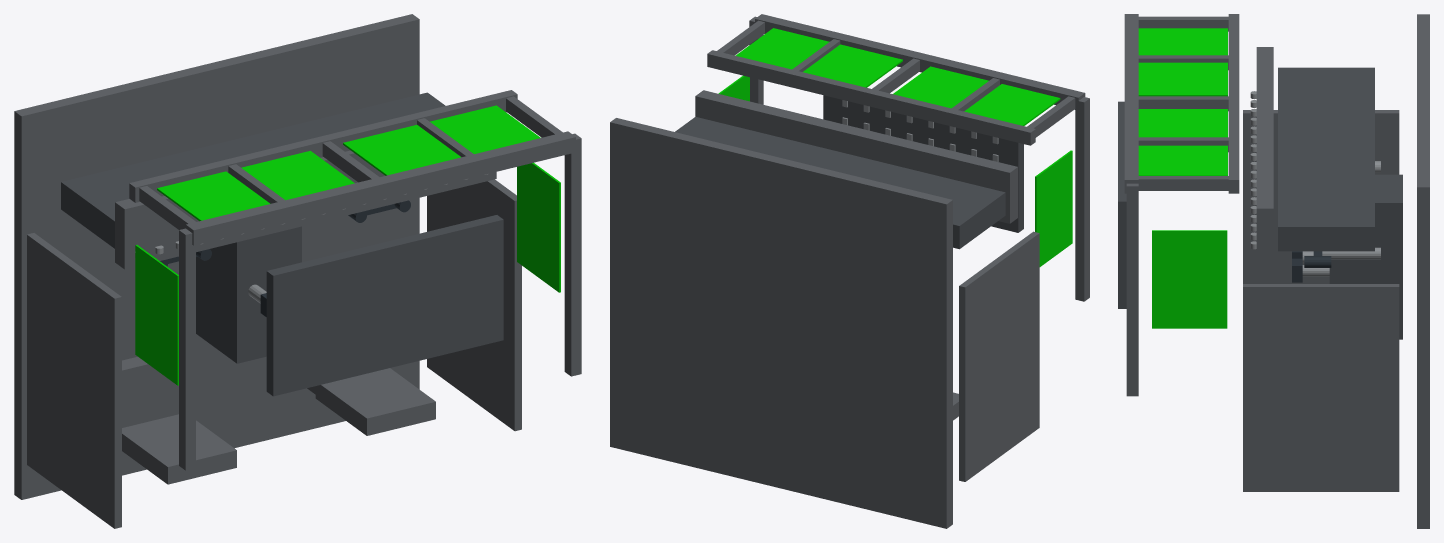
Rendered from cockpit3d.glb.
3 renders of one model, left to right at view 1: azimuth 30°, elevation 25°; view 2: azimuth 150°, elevation 25°; view 3: azimuth 270°, elevation 25°, orthographic. The views are drawn at different scales.
Visible parts, largest first — view 1: floor, overhead_panel, side_wall, side_wall_1, front_panel, window_upper_frame, center_pedestal, glareshield, seat_back_1, side_window_green, window_lower_frame, side_window_green_1 (+12 smaller); view 2: floor, side_wall, glareshield, front_panel, window_lower_frame, overhead_panel, window_upper_frame, side_window_green, side_frame, windshield_green_2, windshield_green, windshield_green_1 (+5 smaller); view 3: side_wall_1, front_panel, side_window_green_1, floor, side_wall, center_pedestal, glareshield, windshield_green_1, windshield_green_3, side_frame_1, windshield_green_2, window_upper_frame (+9 smaller).
Boxes of the visible parts, x1,y1,x2,y2 form: floor: (14,14,419,499); overhead_panel: (266,215,503,396); side_wall: (27,233,121,528); side_wall_1: (427,179,521,431); front_panel: (61,92,445,248); window_upper_frame: (185,131,575,245); center_pedestal: (196,226,301,363); glareshield: (115,150,496,269); seat_back_1: (315,368,435,435); side_window_green: (135,244,178,385); window_lower_frame: (129,90,517,202); side_window_green_1: (517,162,560,292); floor: (610,118,952,528); side_wall: (959,231,1039,481); glareshield: (695,90,1017,223); front_panel: (675,116,1005,249); window_lower_frame: (707,50,1035,145); overhead_panel: (823,95,1023,232); window_upper_frame: (755,14,1085,110); side_window_green: (1035,150,1072,266); side_frame: (1075,97,1089,301); windshield_green_2: (803,44,902,87); windshield_green: (964,84,1060,125); windshield_green_1: (893,66,988,108); side_wall_1: (1243,284,1399,491); front_panel: (1278,67,1374,251); side_window_green_1: (1152,230,1227,328); floor: (1417,14,1429,528); side_wall: (1243,110,1399,283); center_pedestal: (1329,174,1402,339); glareshield: (1256,47,1273,262); windshield_green_1: (1138,62,1227,96); windshield_green_3: (1138,145,1227,175); side_frame_1: (1126,183,1138,396); windshield_green_2: (1138,109,1227,137); window_upper_frame: (1124,14,1138,193).
Bounding box in the file's own units: 3.89 × 3.54 × 2.89.
